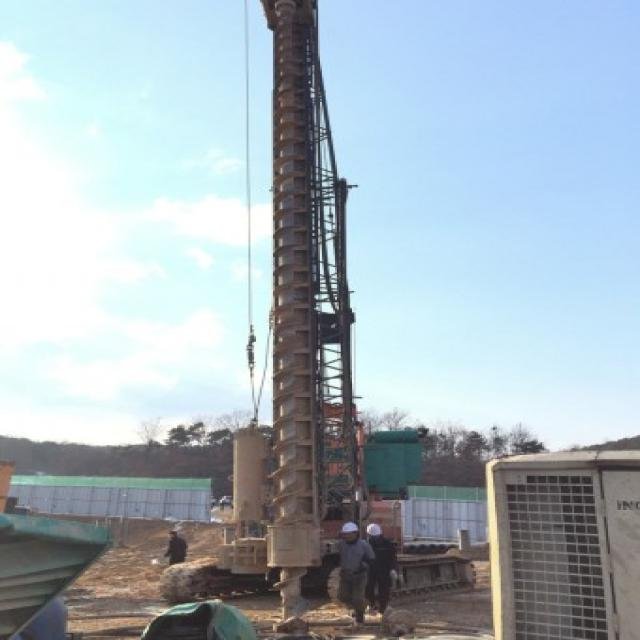pile: (273, 0, 305, 640)
